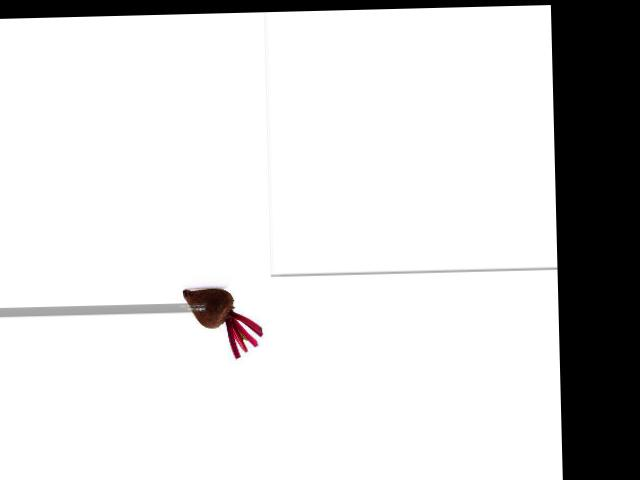beet: (182, 287, 263, 359)
